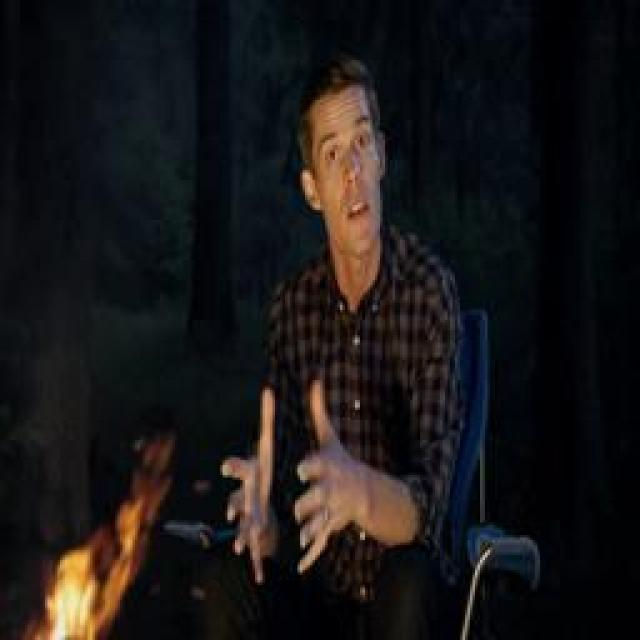Fire: (38, 435, 172, 640)
